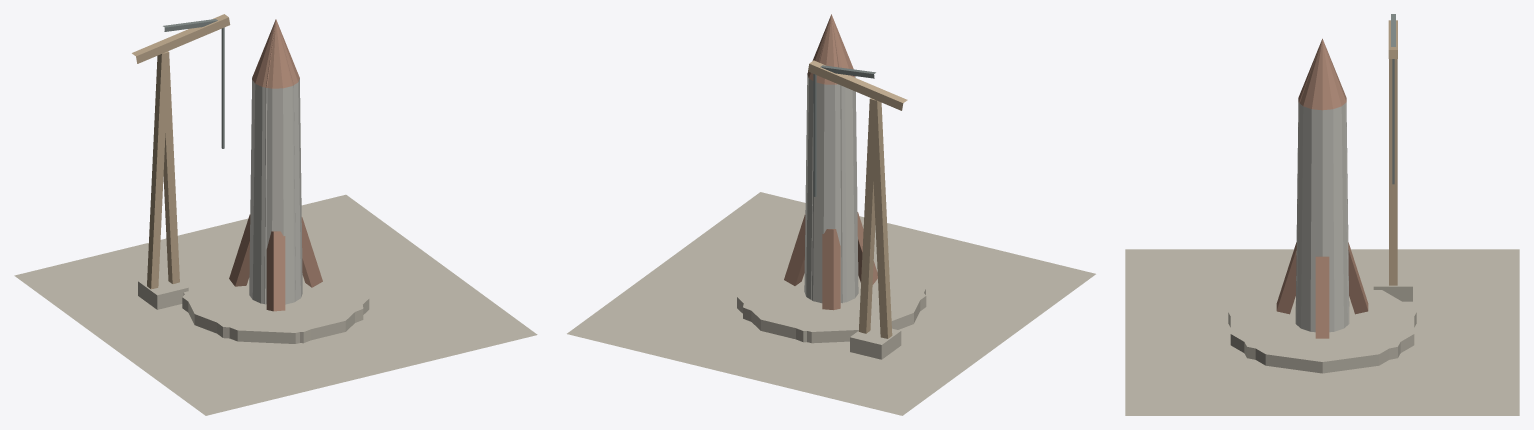
3 renders of one model, left to right at view 1: azimuth 30°, elevation 25°; view 2: azimuth 150°, elevation 25°; view 3: azimuth 270°, elevation 25°, orthographic. The views are drawn at different scales.
Parts seen in each view (by area): view 1: Near, Far, Mid; view 2: Near, Far, Mid; view 3: Near, Far, Mid.
Boxes of the visible parts, x1,y1,x2,y2 form: Near: [14, 14, 537, 415]; Far: [187, 22, 356, 329]; Mid: [182, 262, 363, 343]; Near: [567, 14, 1095, 415]; Far: [749, 18, 925, 328]; Mid: [743, 260, 926, 342]; Near: [1125, 14, 1519, 415]; Far: [1231, 52, 1413, 361]; Mid: [1228, 284, 1416, 361].
Bounding box in the file's own units: 4 × 3.3 × 4.
